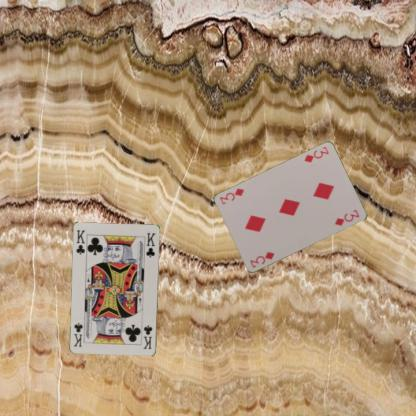3d: (247, 249, 276, 269), (302, 144, 330, 164)
Kc: (74, 228, 87, 256), (141, 323, 154, 350)
